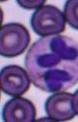N: (24, 35, 78, 92)
